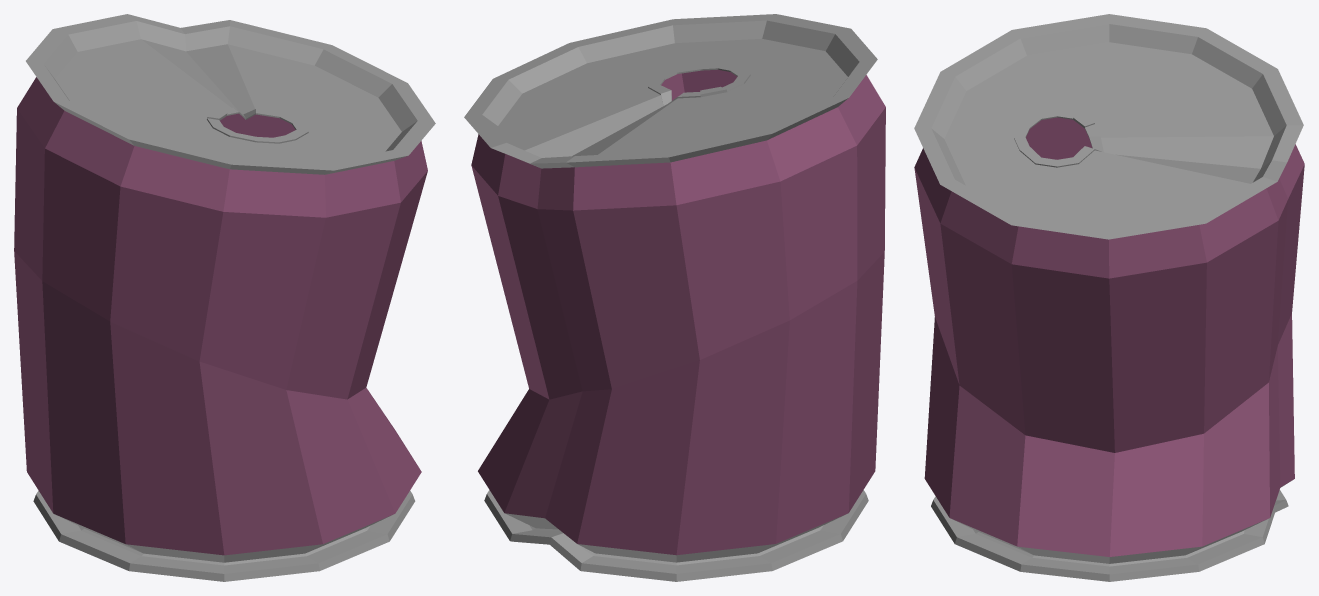
Rendered from lata2.fbx.
3 views of the same model, side by side, from view 1: azimuth 30°, elevation 25°; view 2: azimuth 150°, elevation 25°; view 3: azimuth 270°, elevation 25° (orthographic). The views are drawn at different scales.
Visible parts, largest first — view 1: Cylinder.005; view 2: Cylinder.005; view 3: Cylinder.005.
Part boxes in pixels (box(x1,y1,x2,y2)): Cylinder.005: box(14, 14, 435, 581); Cylinder.005: box(464, 14, 885, 581); Cylinder.005: box(914, 14, 1304, 581).
Bounding box in the file's own units: 110 × 128 × 109.
